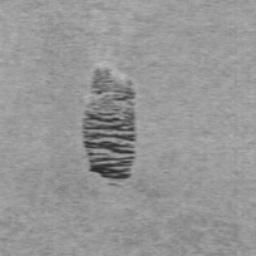Secondary rust skin: (82, 67, 138, 181)
